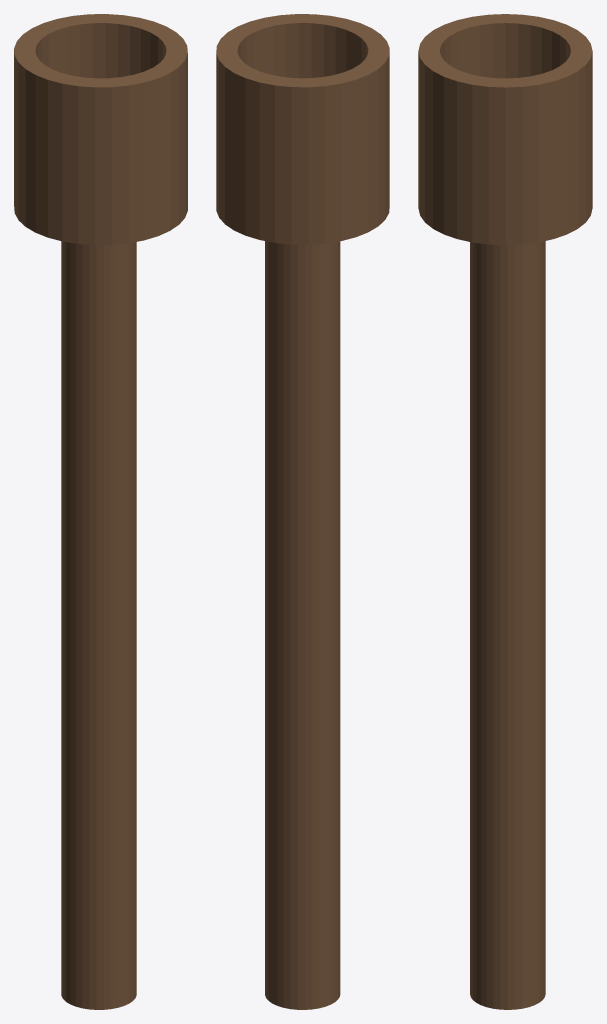
File: torch.dae
3 renders of one model, left to right at view 1: azimuth 30°, elevation 25°; view 2: azimuth 150°, elevation 25°; view 3: azimuth 270°, elevation 25°, orthographic.
Visible parts, largest first — view 1: Cylinder, Cylinder_001; view 2: Cylinder, Cylinder_001; view 3: Cylinder, Cylinder_001.
Boxes of the visible parts, box(x1,y1,x2,y2) form: Cylinder: box(61, 241, 136, 1009); Cylinder_001: box(14, 14, 187, 245); Cylinder: box(265, 241, 340, 1009); Cylinder_001: box(216, 14, 389, 244); Cylinder: box(470, 241, 545, 1009); Cylinder_001: box(418, 14, 592, 245).
Size of the model in its own units: 0.7029 by 0.7029 by 4.2.
